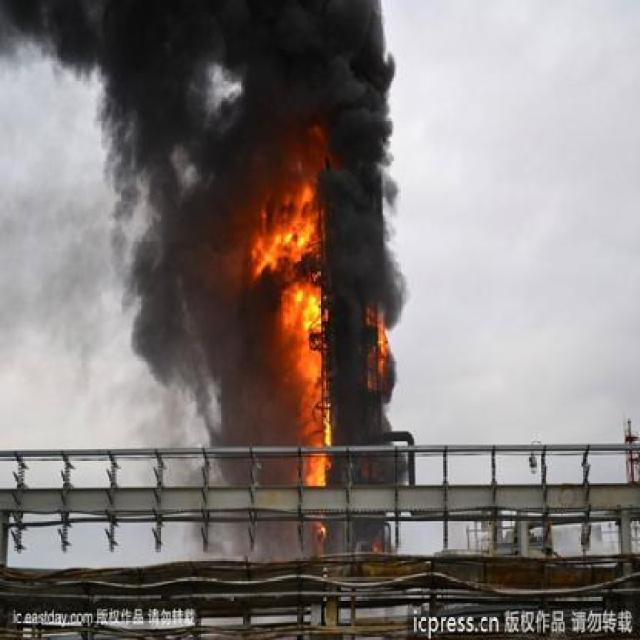Fire: (245, 107, 342, 500), (360, 291, 396, 398), (302, 503, 340, 561)
Smoke: (102, 110, 248, 437), (37, 0, 392, 105), (347, 112, 401, 293)
